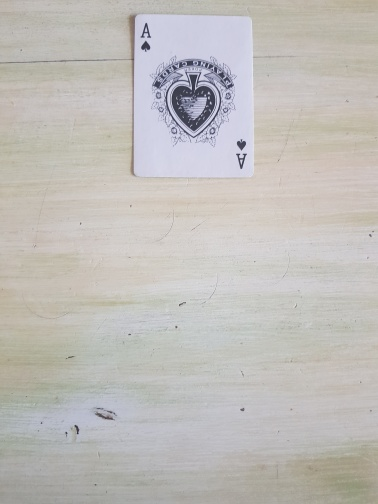ace: (132, 15, 256, 178)
